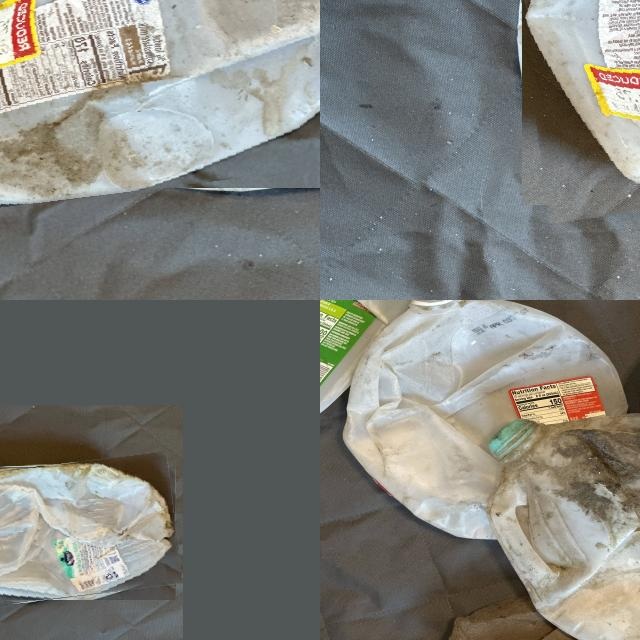milk-jug: (346, 300, 636, 541), (0, 0, 320, 204), (484, 409, 640, 640), (509, 0, 640, 214), (0, 459, 178, 608), (320, 300, 425, 422), (429, 596, 640, 640)
